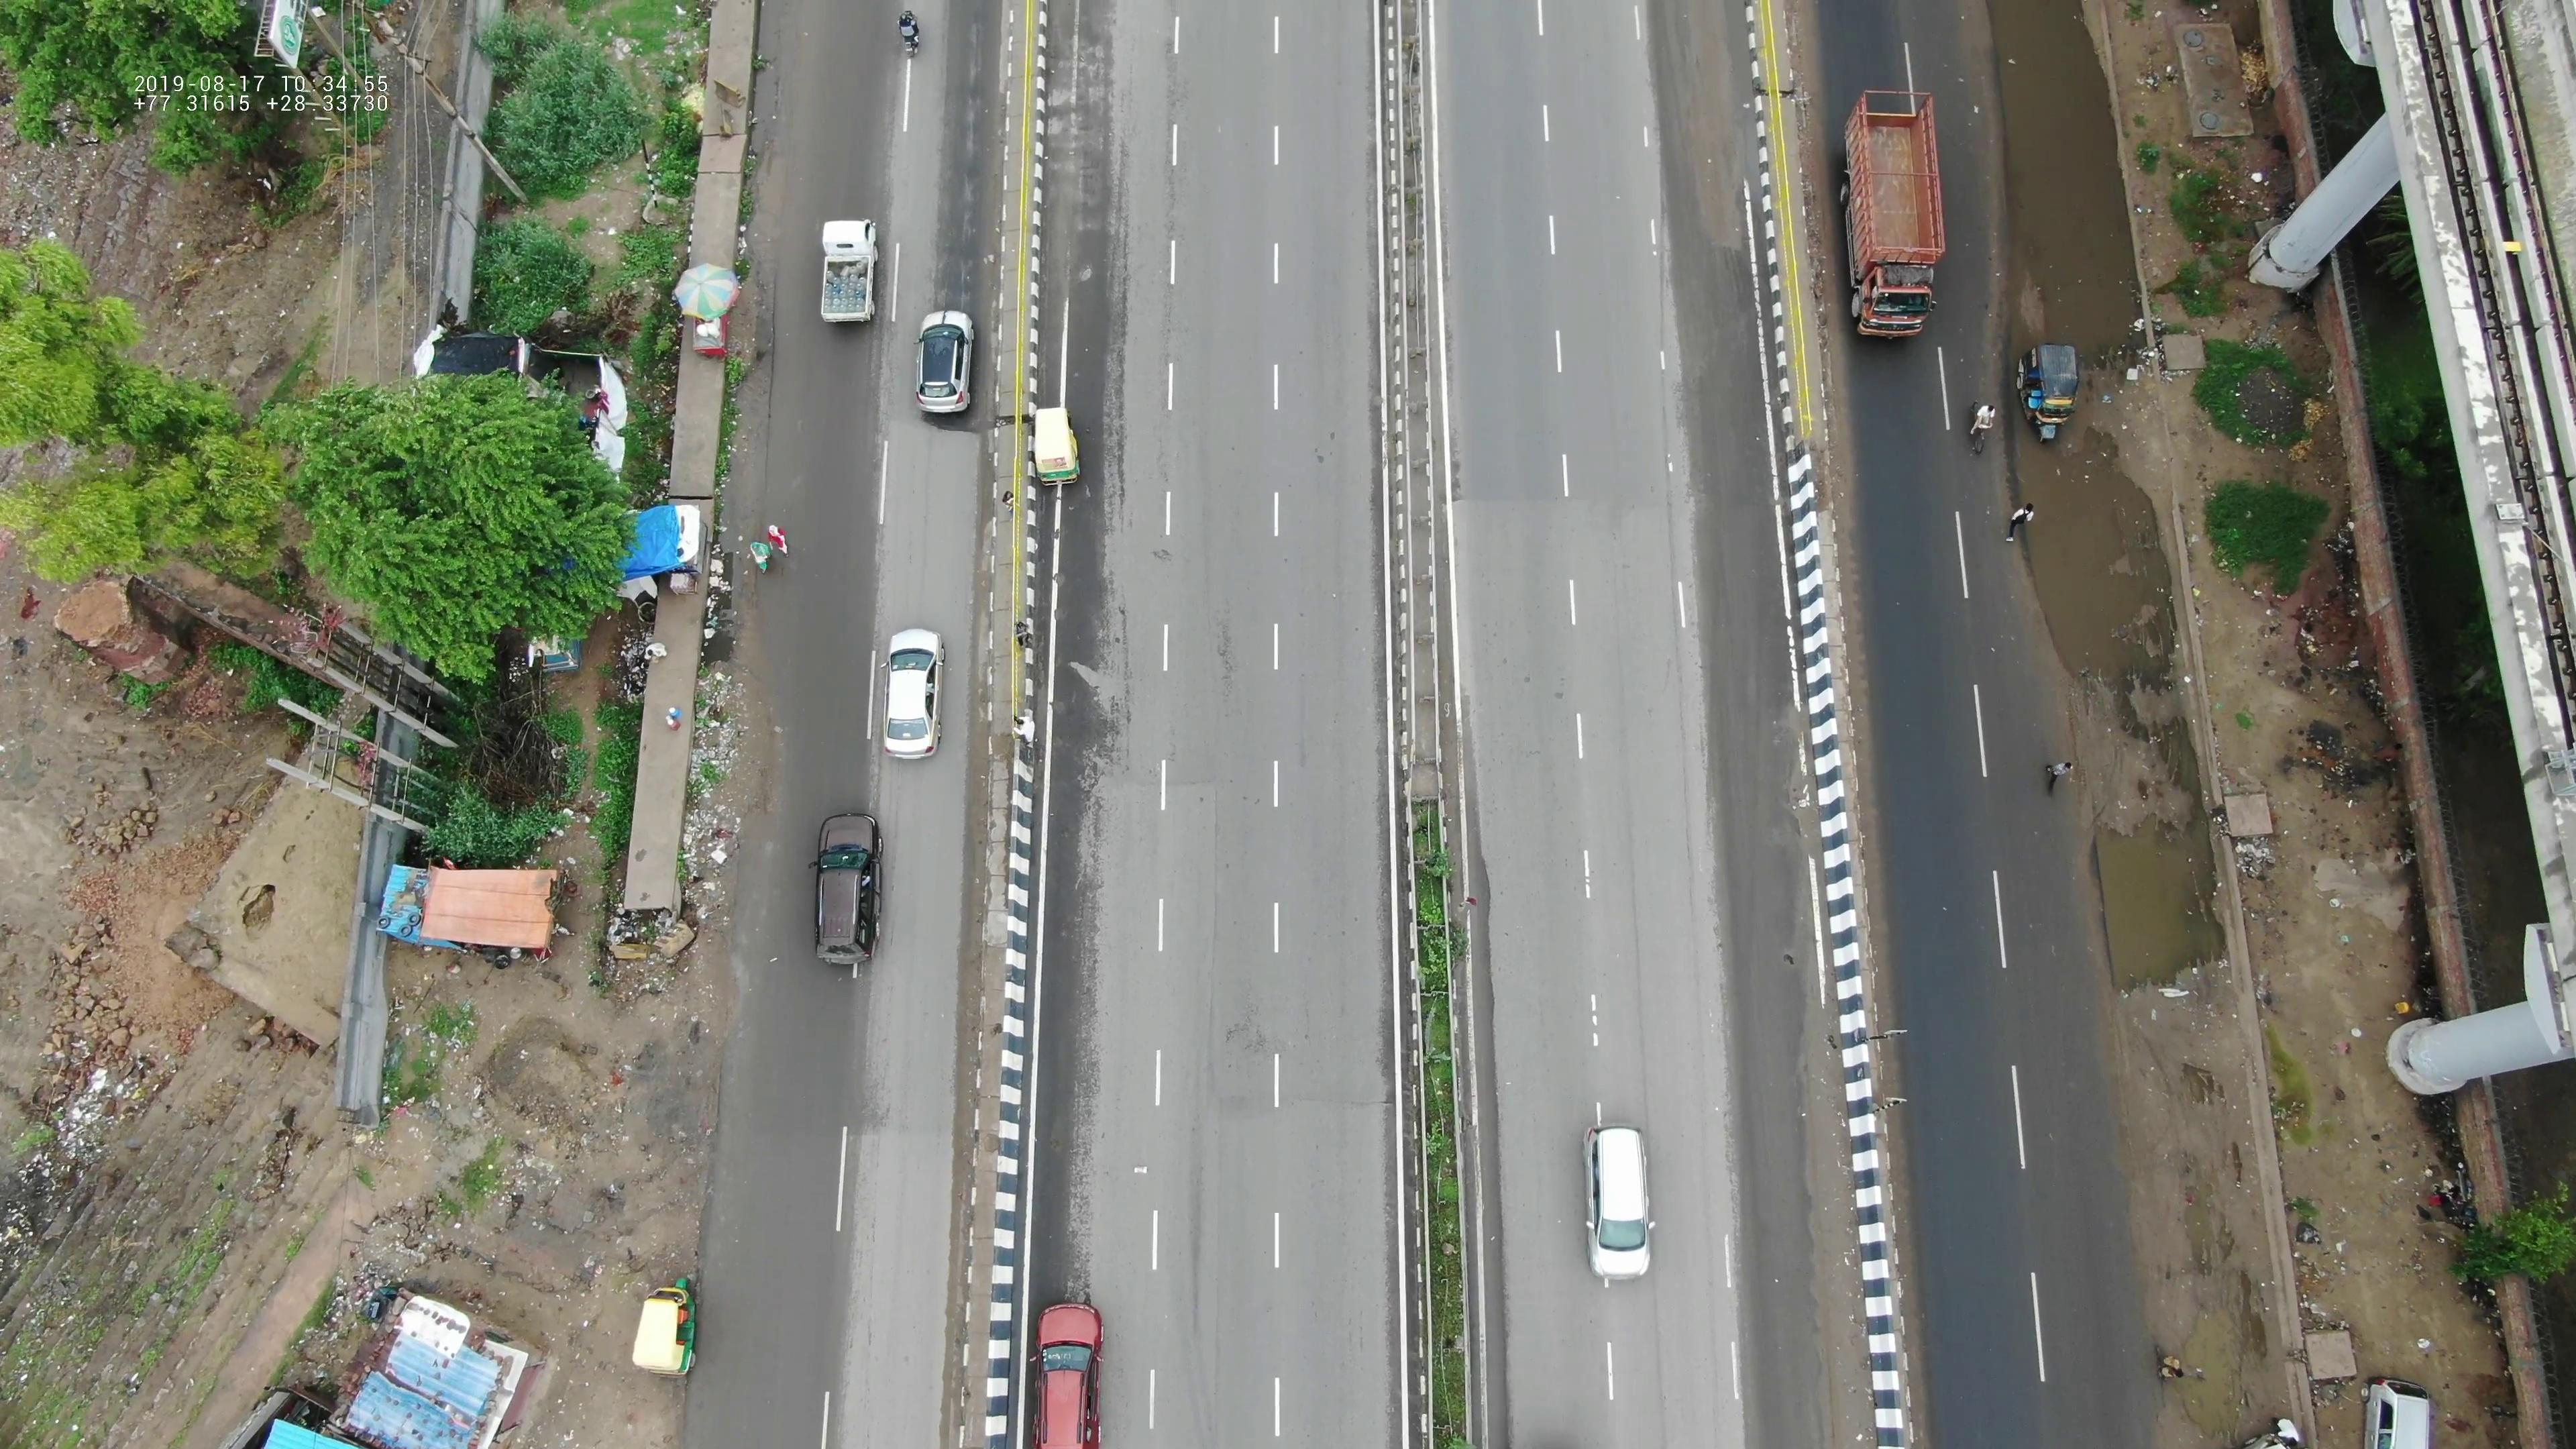Ravelling: (1205, 614, 1246, 725)
Waterlogging: (1973, 11, 2181, 690), (2063, 713, 2243, 1035)
